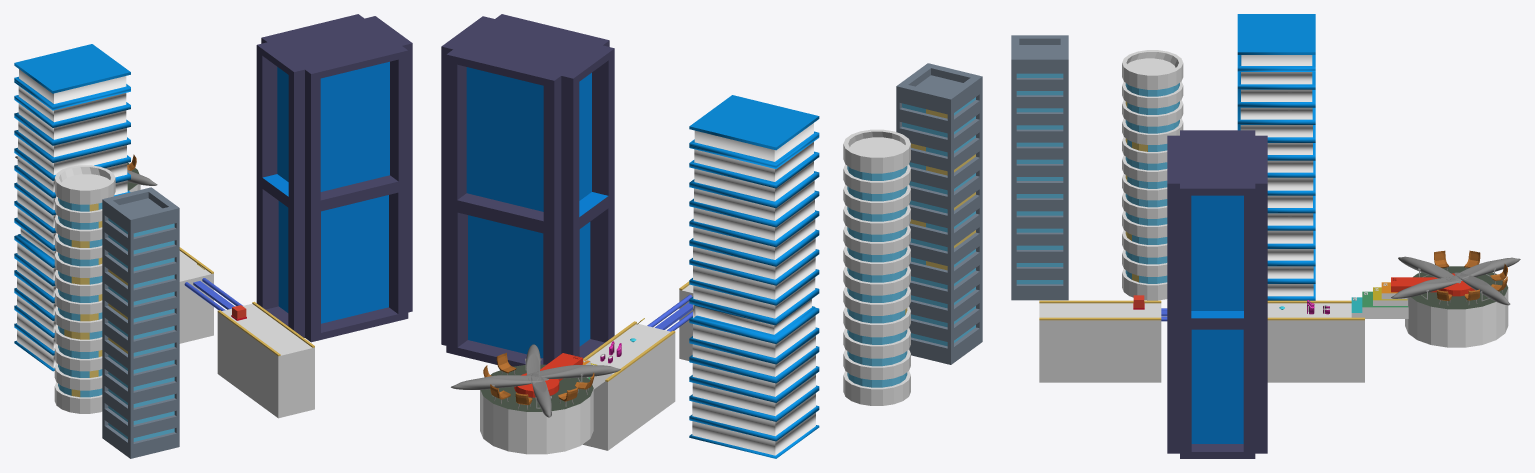
File: High_Heels_Object_Models.fbx
3 renders of one model, left to right at view 1: azimuth 30°, elevation 25°; view 2: azimuth 150°, elevation 25°; view 3: azimuth 270°, elevation 25°, orthographic. The views are drawn at different scales.
Parts seen in each view (by area): view 1: plaza_blue, blue_edge_plaza, middle_cube_plaza, cylinder_plaza, road, road_1; view 2: plaza_blue, blue_edge_plaza, middle_cube_plaza, cylinder_plaza, road_1, finish_platform, kasa.003, kasa.001, X6, road; view 3: plaza_blue, blue_edge_plaza, middle_cube_plaza, cylinder_plaza, road, road_1, finish_platform, X6, kasa, kasa.002, kasa.001, kasa.003 (+1 smaller).
Part boxes in pixels (box(x1,y1,x2,y2)): plaza_blue: box(256, 14, 412, 342); blue_edge_plaza: box(14, 44, 130, 371); middle_cube_plaza: box(102, 187, 179, 458); cylinder_plaza: box(54, 165, 115, 413); road: box(217, 301, 314, 418); road_1: box(179, 247, 213, 343); plaza_blue: box(441, 14, 614, 366); blue_edge_plaza: box(689, 95, 819, 458); middle_cube_plaza: box(896, 63, 982, 364); cylinder_plaza: box(843, 129, 910, 405); road_1: box(583, 321, 675, 450); finish_platform: box(480, 364, 593, 454); kasa.003: box(451, 375, 548, 389); kasa.001: box(526, 365, 620, 378); X6: box(514, 353, 582, 397); road: box(679, 281, 693, 360); plaza_blue: box(1167, 130, 1267, 458); blue_edge_plaza: box(1237, 14, 1315, 300); middle_cube_plaza: box(1011, 35, 1068, 300); cylinder_plaza: box(1122, 50, 1183, 300); road: box(1039, 300, 1161, 382); road_1: box(1267, 300, 1364, 382); finish_platform: box(1405, 266, 1508, 347); X6: box(1391, 273, 1474, 296); kasa: box(1391, 276, 1468, 298); kasa.002: box(1450, 257, 1520, 280); kasa.001: box(1398, 256, 1460, 283); kasa.003: box(1454, 272, 1510, 305).
Bounding box in the file's own units: 1996 × 1486 × 2380.
Materials: 29 (1 with a texture image).
